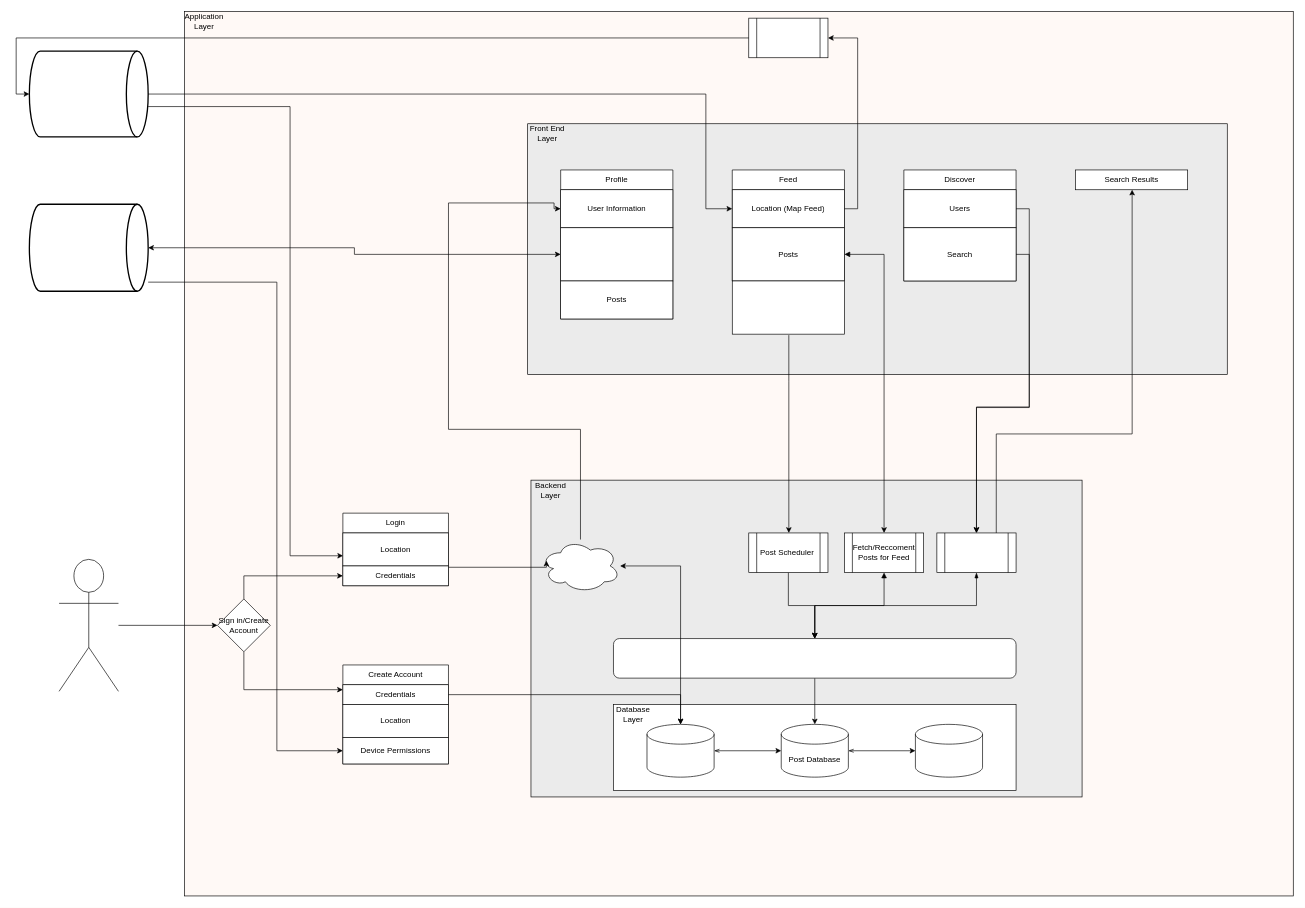
This 1305x908 diagram has some shape labels left out. Each missing label, with the centre of its shape:
API Gateway: (x=814, y=658)
Device Location Services: (x=88, y=93)
Device Software: (x=88, y=247)
Fetch/ Reccomend Users: (x=976, y=552)
Image Blob Storage: (x=949, y=750)
Make a Post: (x=788, y=307)
Notification Settings: (x=616, y=254)
Update Location: (x=788, y=37)
User: (x=88, y=625)
User Authentication (SAML): (x=580, y=565)
User Database: (x=680, y=750)
